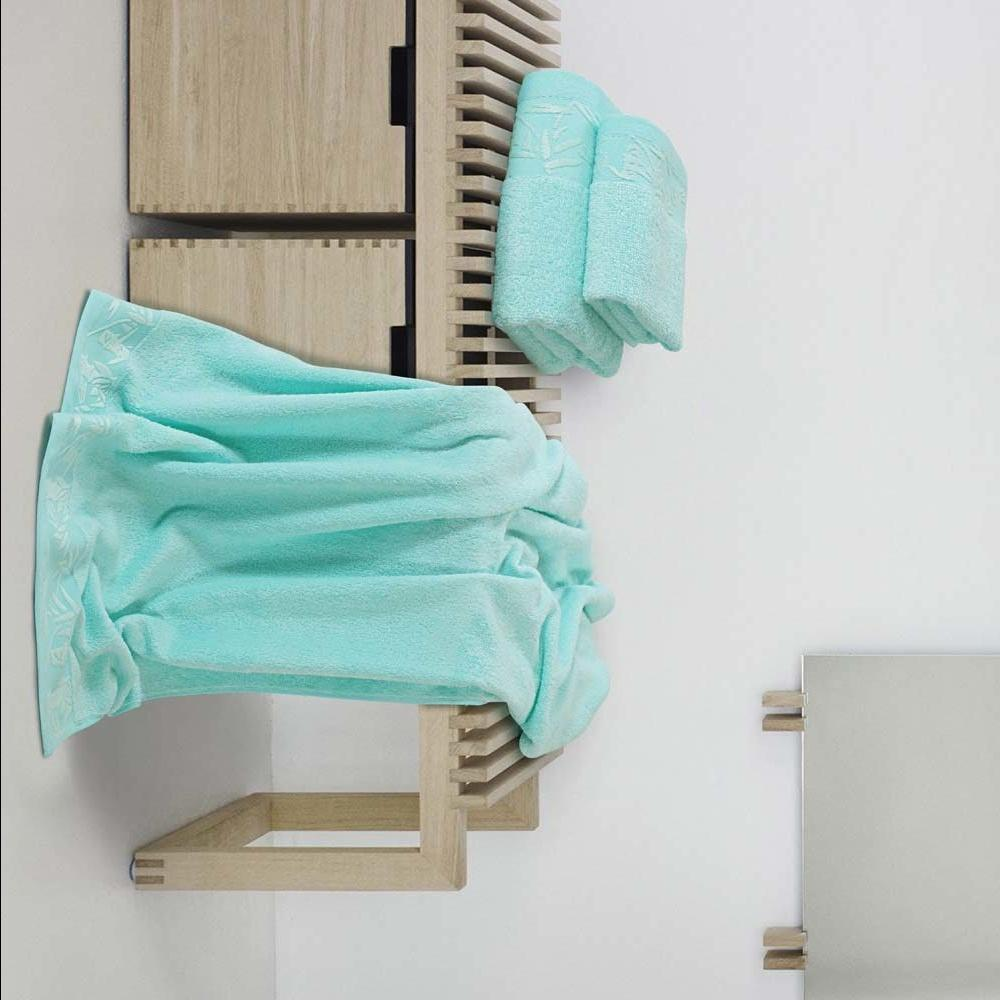towel: (25, 350, 560, 742)
